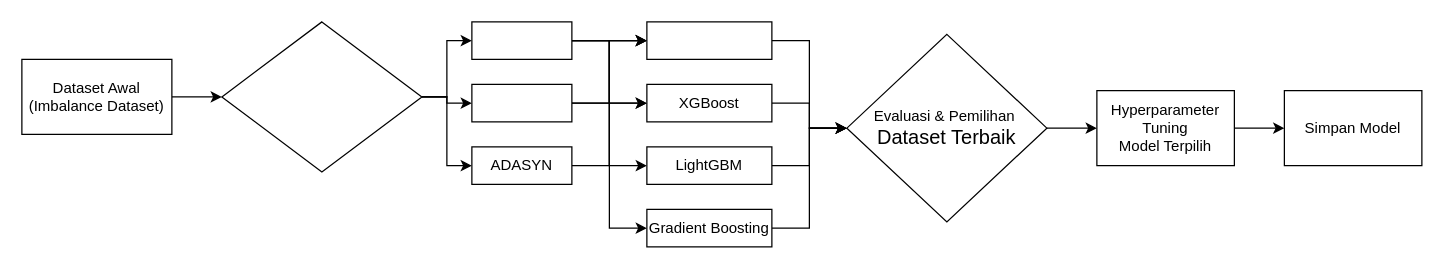
Some shapes in this 1444 by 269 pixel diagram are drawn without their labels. The shapes that lost their labels are listed below. From the top down, each one's centre as x and y in pixels, then its label:
point 521,40: Data Asli
point 709,40: Random Forest
point 321,96: Preprocessing & Penanganan Imbalance
point 521,102: SMOTE
